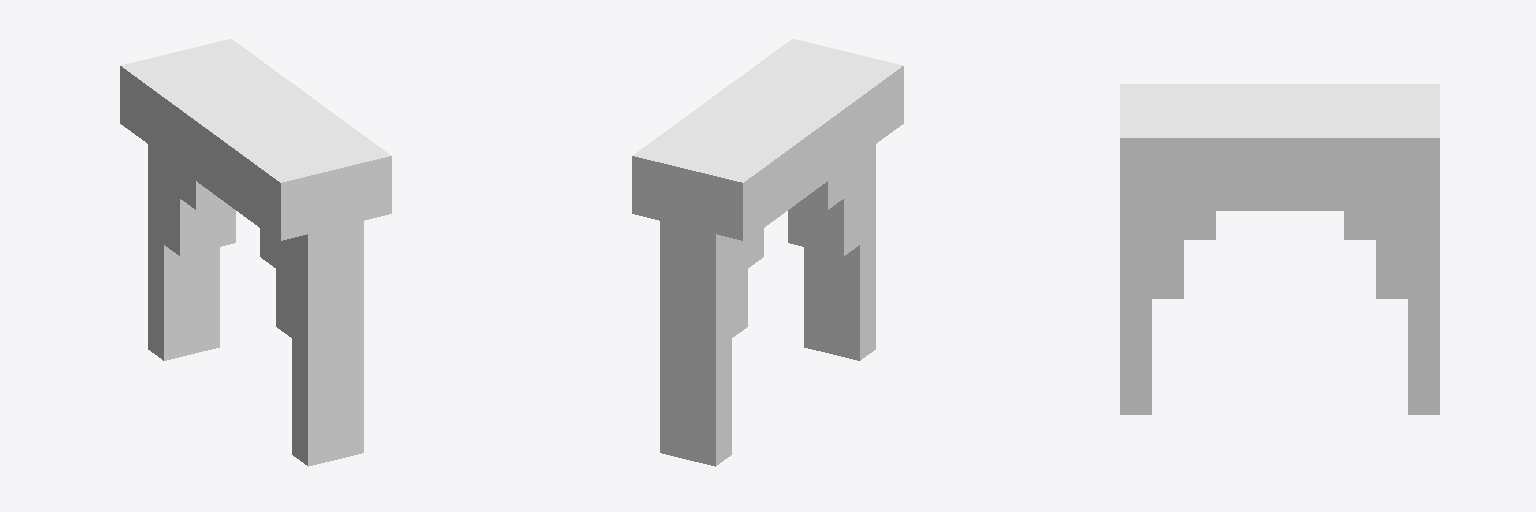
Rendered from wall_door_arch.obj.
The picture shows the model from 3 angles: view 1: azimuth 30°, elevation 25°; view 2: azimuth 150°, elevation 25°; view 3: azimuth 270°, elevation 25°; orthographic projection.
Visible parts, largest first — view 1: object 1; view 2: object 1; view 3: object 1.
Boxes of the visible parts, x1=… form: object 1: x1=120, y1=39, x2=391, y2=466; object 1: x1=632, y1=39, x2=903, y2=466; object 1: x1=1120, y1=84, x2=1439, y2=414.
Size of the model in its own units: 0.4 by 1 by 1.